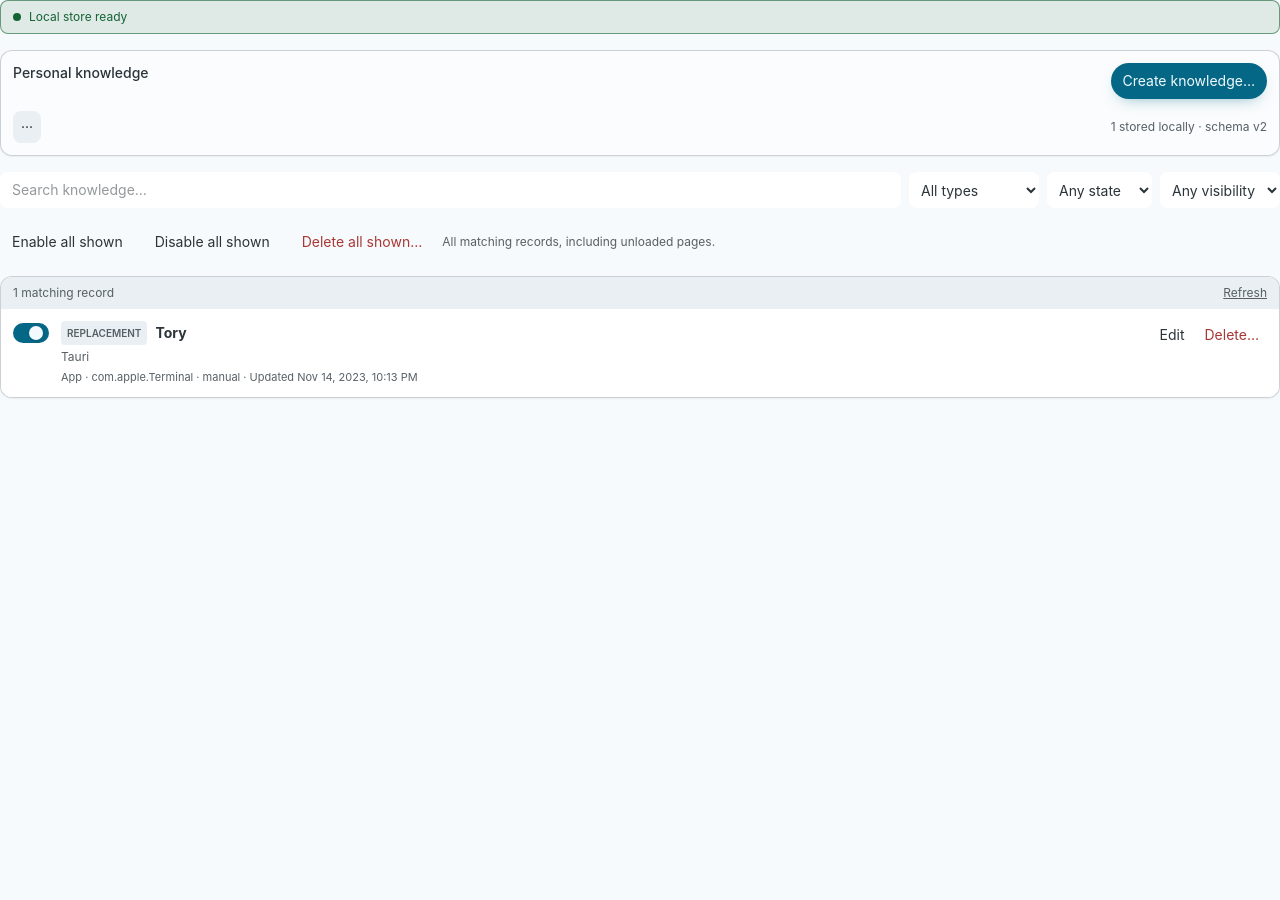
Test: KnowledgeManager › creates each type and exposes explicit visibility controls
This screenshot has width=1280, height=900.
Click the button "Create knowledge…" at (1189, 81), box x1=1110 y1=63 x2=1267 y2=99
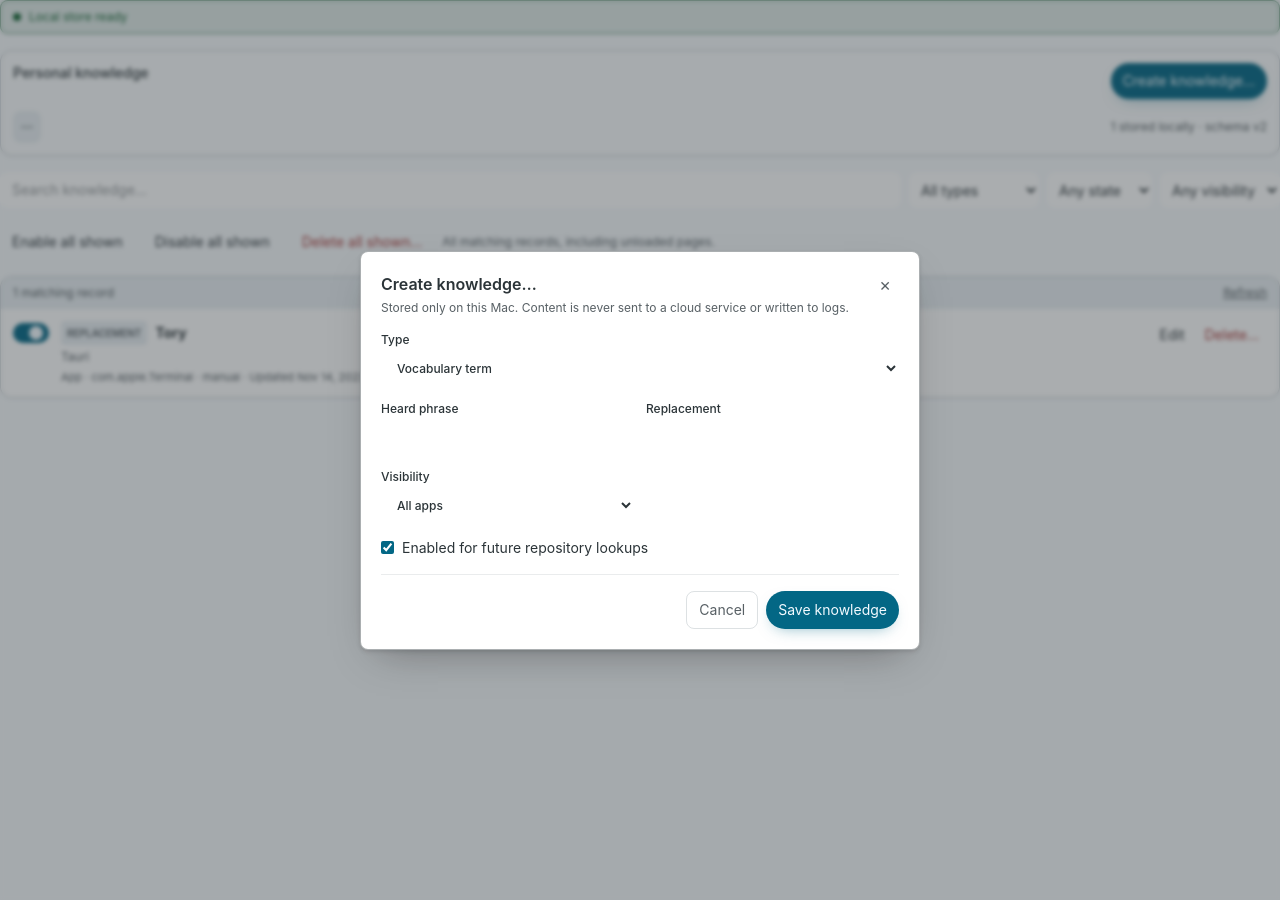
Select "Vocabulary term" in the dropdown labelled "Type" at (640, 368), box x1=381 y1=352 x2=899 y2=384
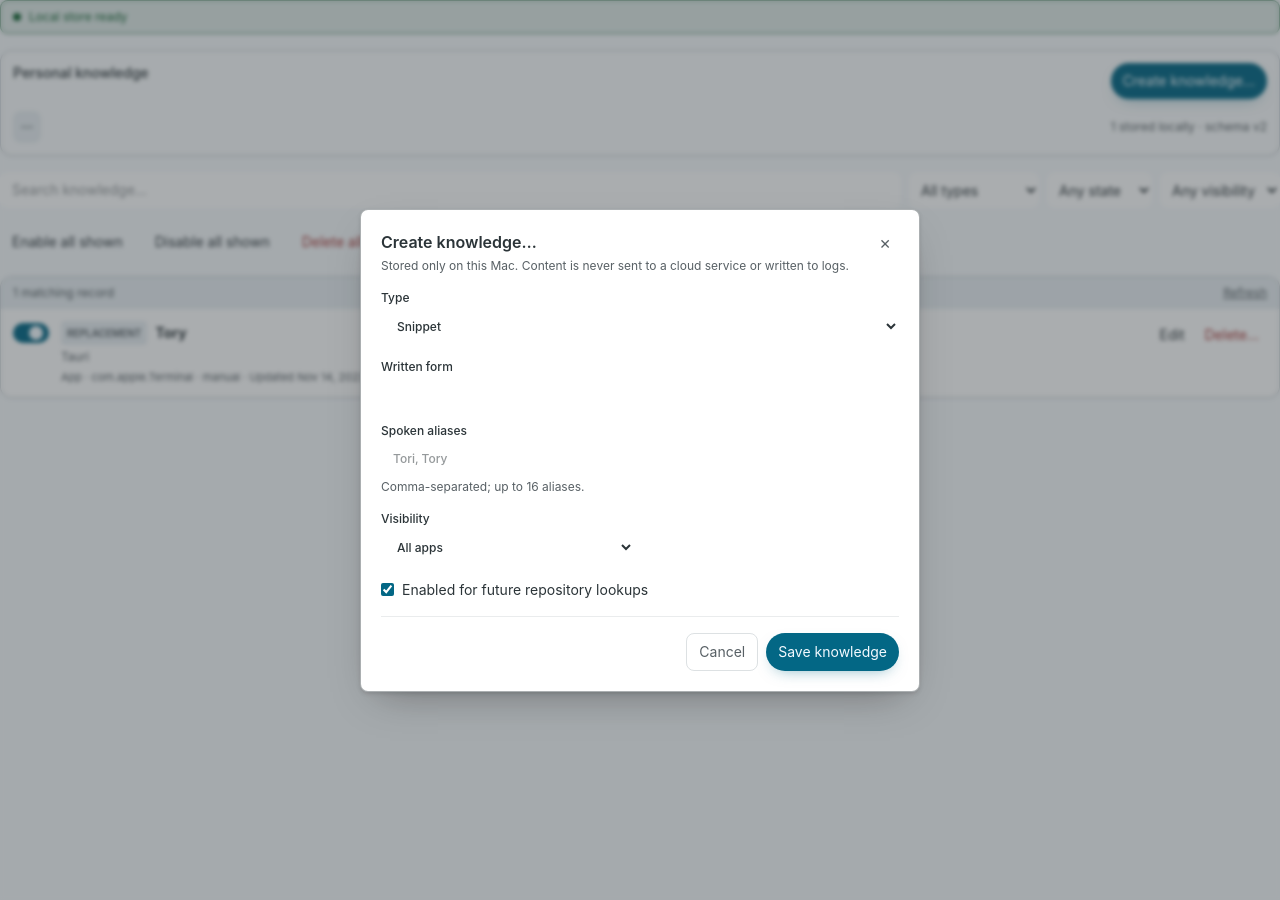
Select "Snippet" in the dropdown labelled "Type" at (640, 326), box x1=381 y1=310 x2=899 y2=342
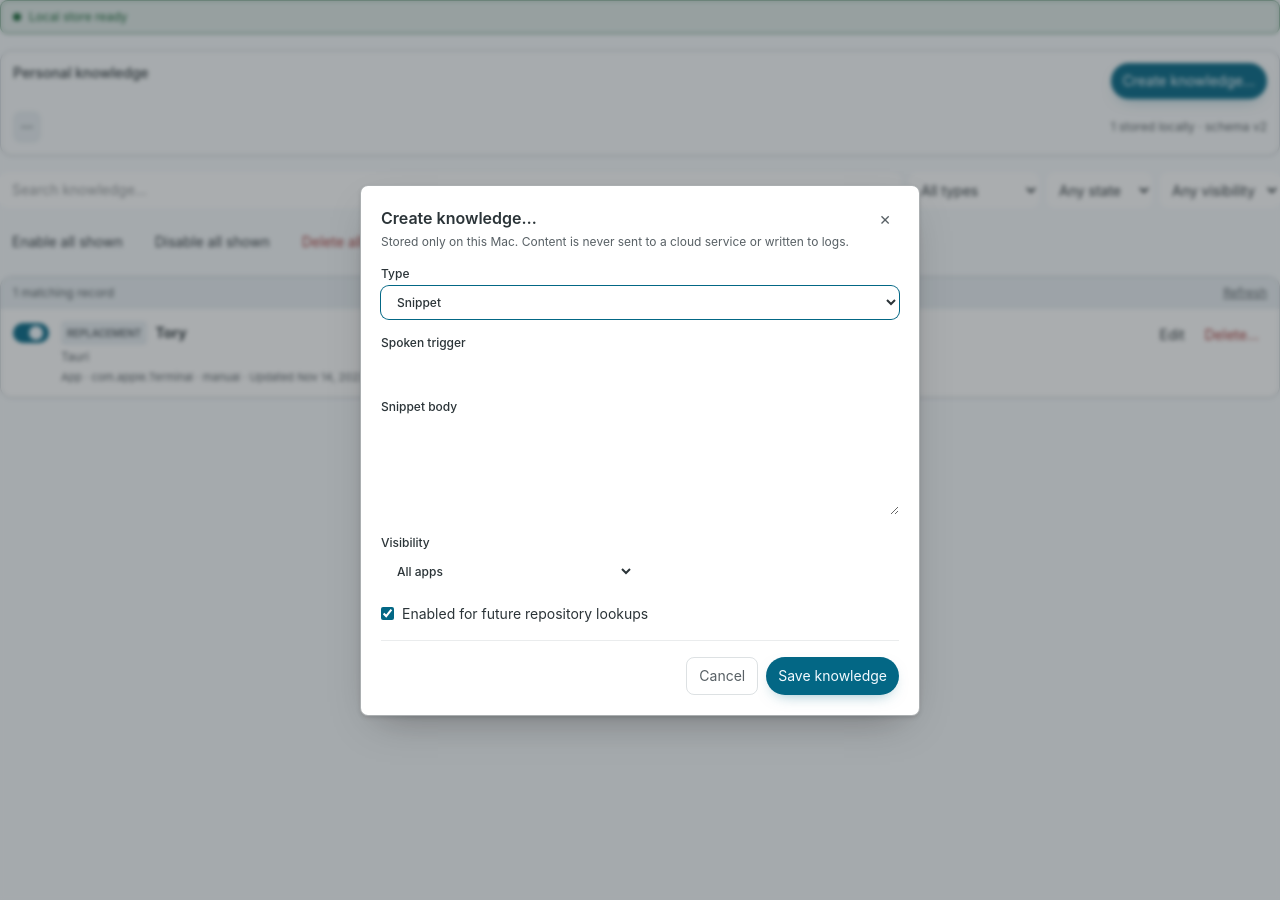
Expected: the text box named "Snippet body" is shown, x1=381 y1=418 x2=899 y2=514
